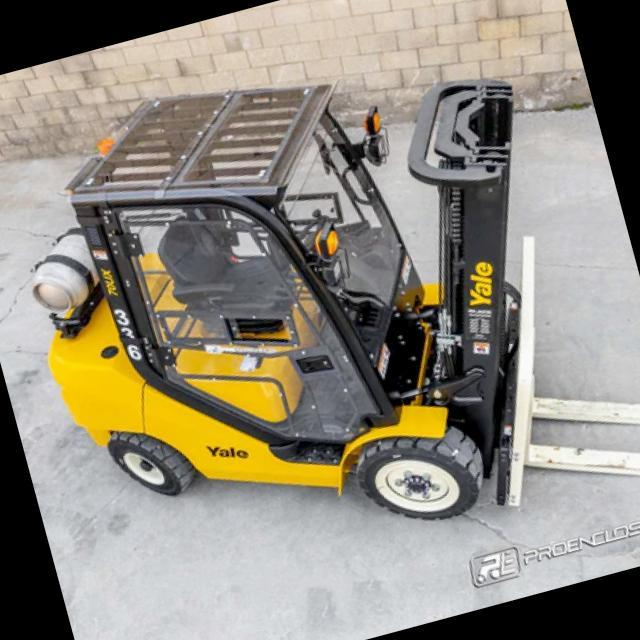forklift: (0, 0, 632, 622)
